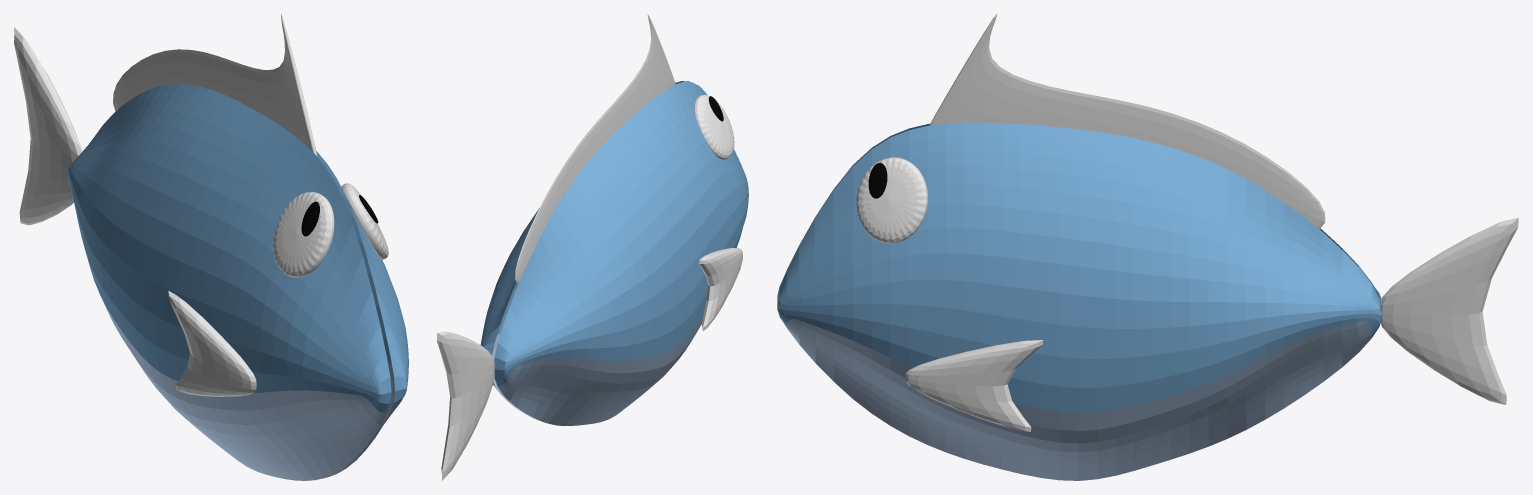
File: fish08A7-blue.fbx
3 renders of one model, left to right at view 1: azimuth 30°, elevation 25°; view 2: azimuth 150°, elevation 25°; view 3: azimuth 270°, elevation 25°, orthographic. The views are drawn at different scales.
Visible parts, largest first — view 1: body-fish8A, hire-top, hire-end, hire-end.002, eye2.005, eye2.003; view 2: body-fish8A, hire-top, hire-end, hire-end.002, eye2.005; view 3: body-fish8A, hire-top, hire-end, hire-end.001, eye2.003.
Part boxes in pixels (x1,y1,x2,y2): body-fish8A: (67,84,408,480); hire-top: (113,14,317,156); hire-end: (14,27,82,225); hire-end.002: (168,291,256,396); eye2.005: (273,192,334,277); eye2.003: (341,183,388,259); body-fish8A: (480,81,748,425); hire-top: (515,14,675,283); hire-end: (437,331,494,480); hire-end.002: (698,247,742,330); eye2.005: (694,95,734,159); body-fish8A: (777,122,1381,480); hire-top: (929,14,1325,229); hire-end: (1380,217,1518,404); hire-end.001: (905,340,1043,431); eye2.003: (856,157,928,243).
Size of the model in its own units: 3.92 by 9.6 by 13.84.
